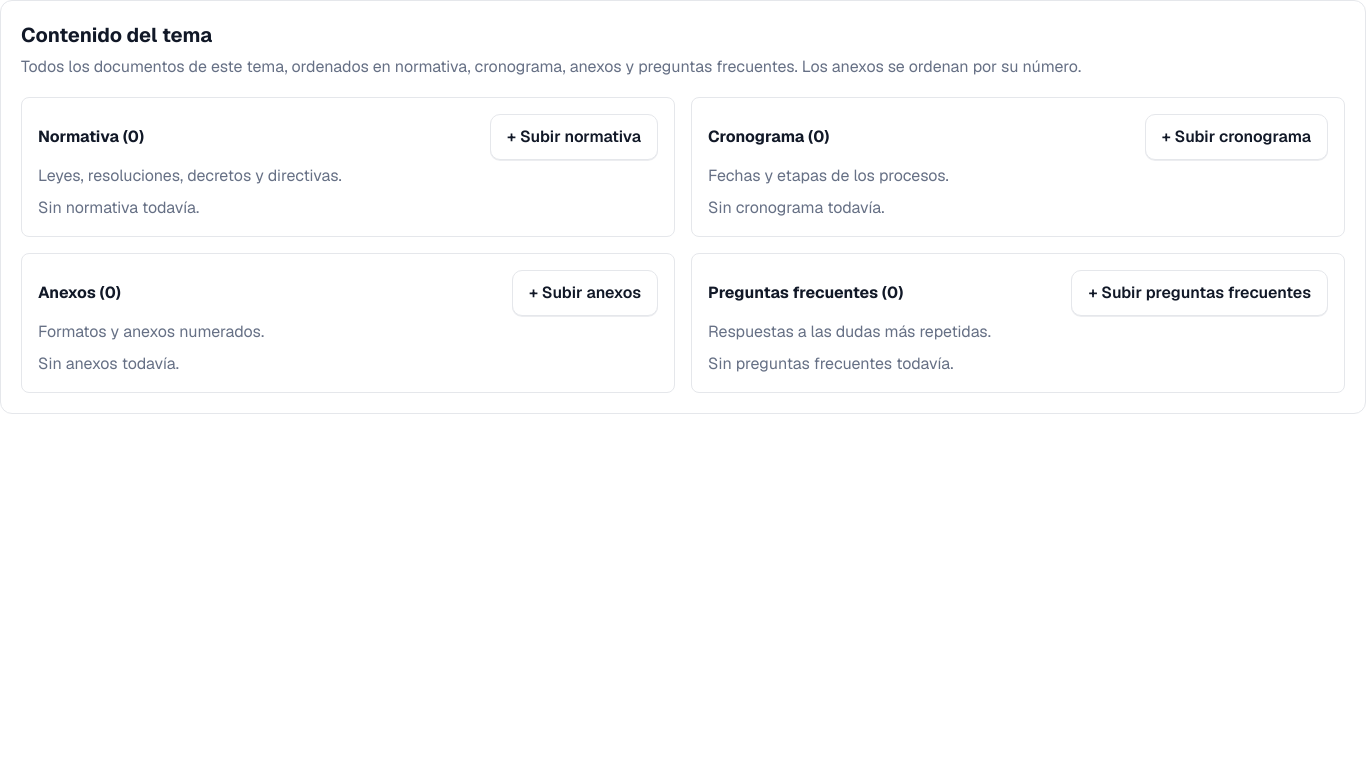
ModuleContentSections › sin datos del tema muestra año, entidad y dependencia como obligatorios
The width and height of the screenshot is (1366, 768).
Click the button "+ Subir preguntas frecuentes" at [1200, 293], box [1071,270,1328,316]
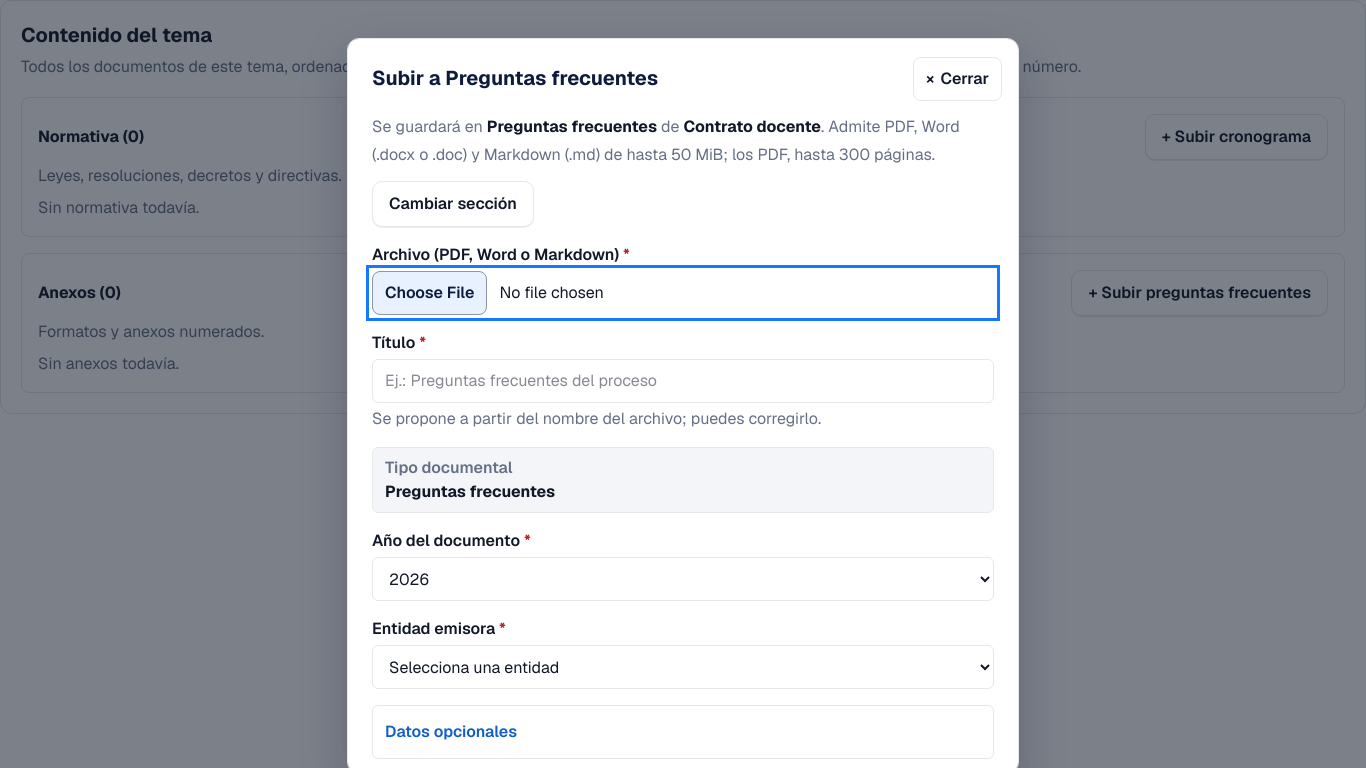
Now the dropdown labelled "Año del documento" shows "2026", box [372,557,994,601]
Now the dropdown labelled "Entidad emisora" shows "Selecciona una entidad", box [372,645,994,689]
